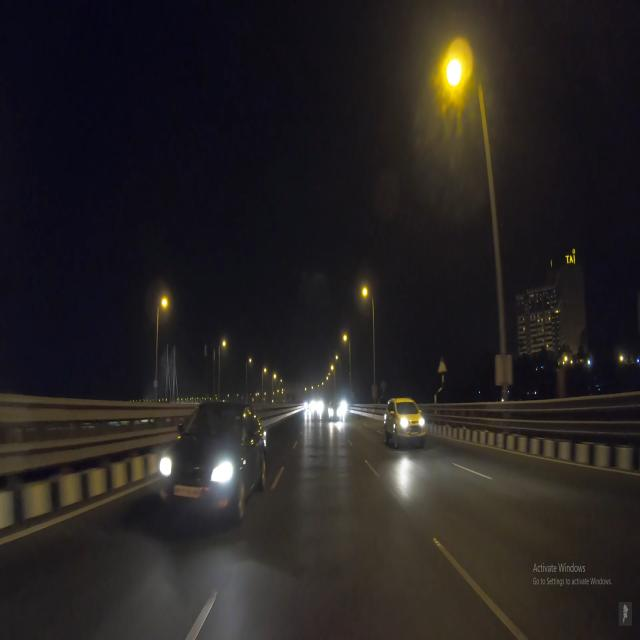headlights: (154, 444, 240, 504), (394, 412, 430, 438)
